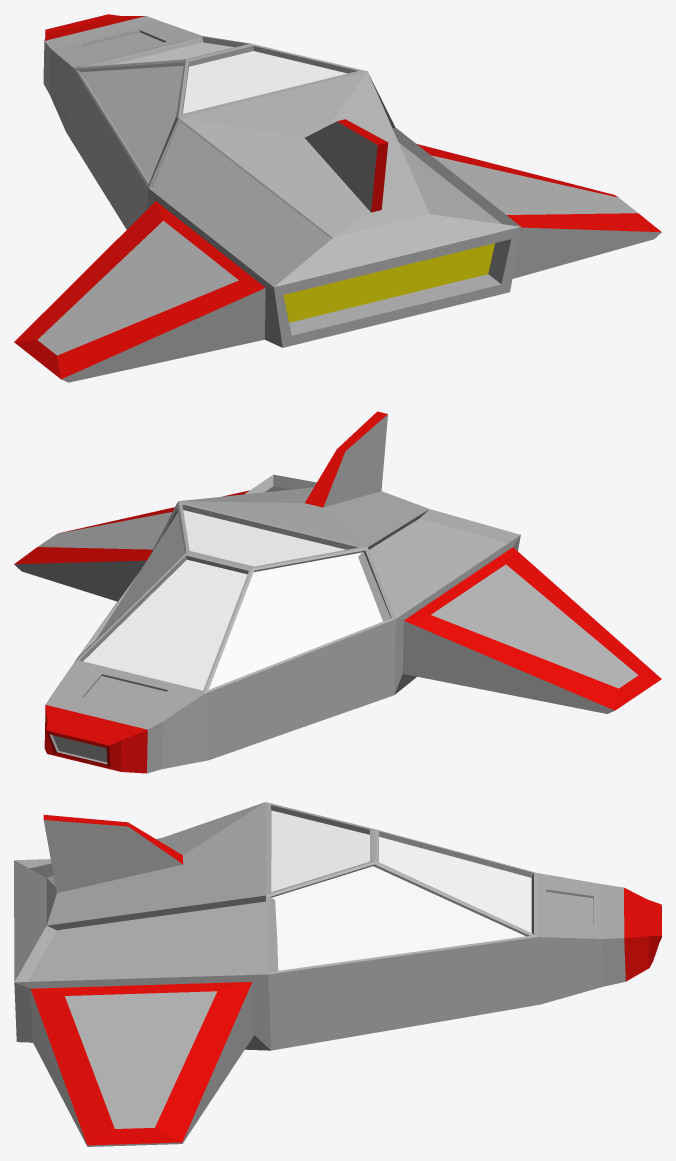
The model's file is xxblastship.gltf.
3 views of the same model, one above another, from view 1: azimuth 30°, elevation 25°; view 2: azimuth 150°, elevation 25°; view 3: azimuth 270°, elevation 25° (orthographic).
Visible parts, largest first — view 1: Cube; view 2: Cube; view 3: Cube.
Part boxes in pixels (bbox=[...]): Cube: bbox=[14, 14, 661, 382]; Cube: bbox=[14, 411, 661, 773]; Cube: bbox=[14, 802, 661, 1146].
Size of the model in its own units: 9.84 by 2.86 by 9.08.
